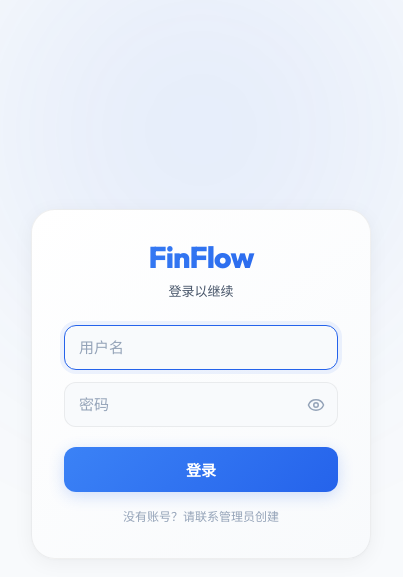
Test: LoginPage 密码可见性切换 › 点击眼睛后 type=text，再点击回到 password
Click the button named "显示密码" at (316, 404), box left=300, top=388, right=332, bottom=420
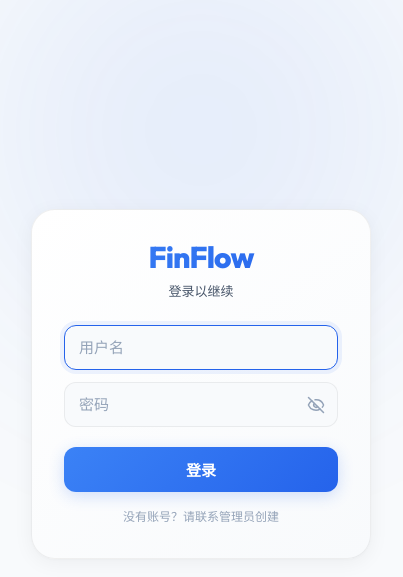
Expected: the button named "隐藏密码" is shown
Click the button named "隐藏密码" at (316, 404), box left=300, top=388, right=332, bottom=420
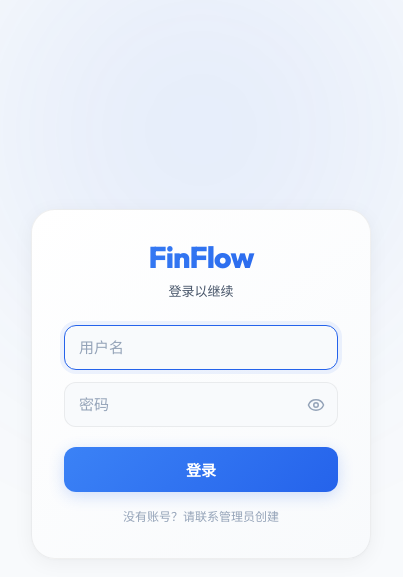
Expected: the button named "显示密码" is shown, left=300, top=388, right=332, bottom=420
